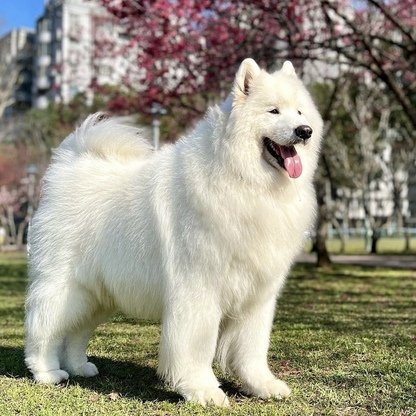samoyed: (18, 56, 328, 410)
